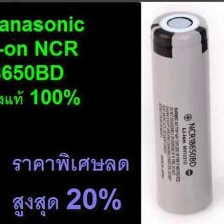battery: (148, 7, 216, 217)
